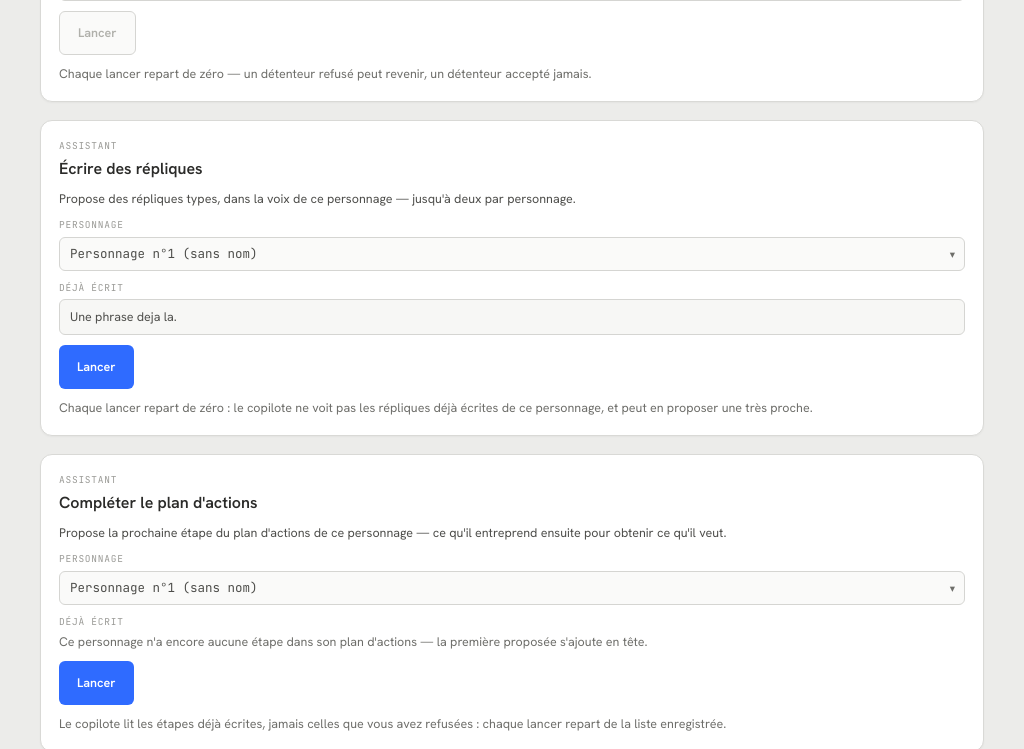
repliques - accepter AJOUTE, ne remplace rien › le tableau croit, la replique existante est conservee
(page scrolled)
Click the button "Lancer" below "Une phrase deja la.".
click(96, 367)  # box 59,345 -> 134,389
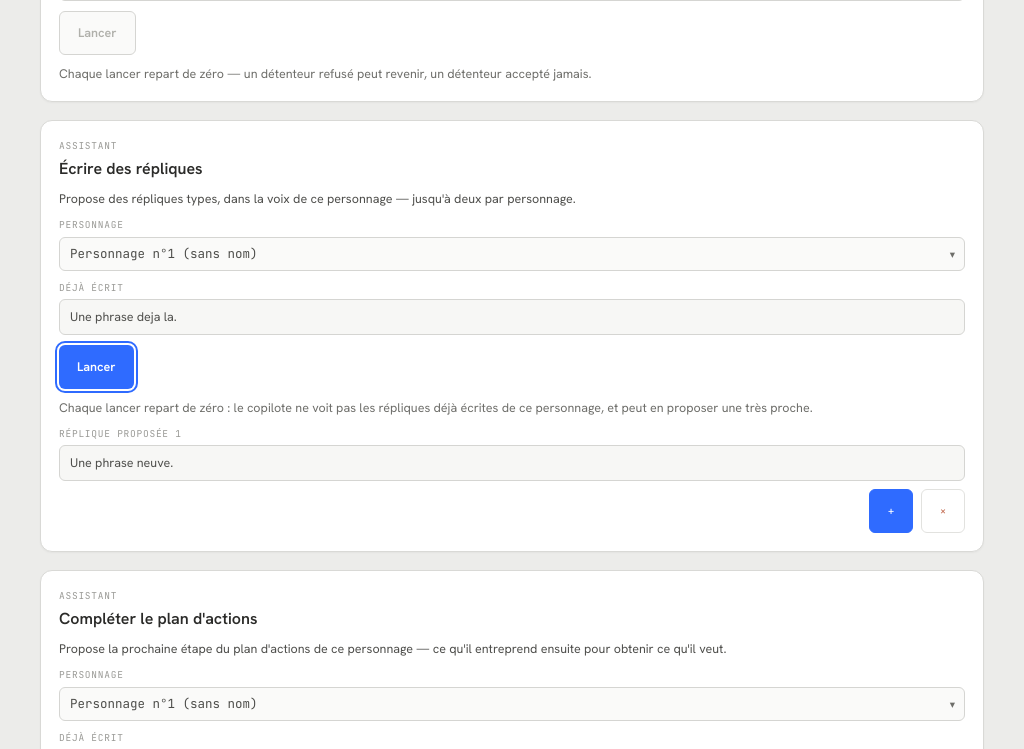
expect the button named "Accepter la proposition" is shown: met
Click the button named "Accepter la proposition".
click(891, 511)  # box 869,489 -> 913,533
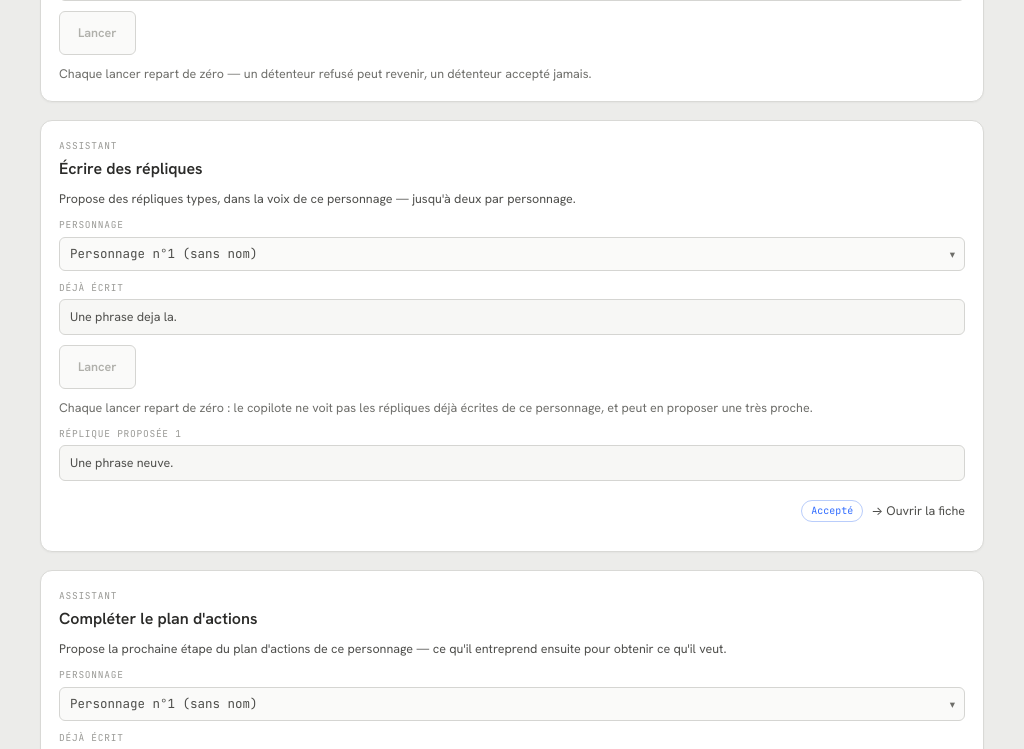
expect the text "Accepté" is shown: met, box 801,500 -> 863,522
